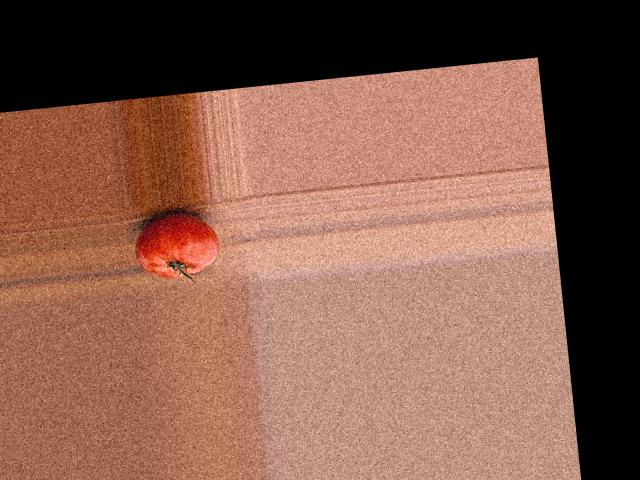tomato: (132, 209, 223, 281)
